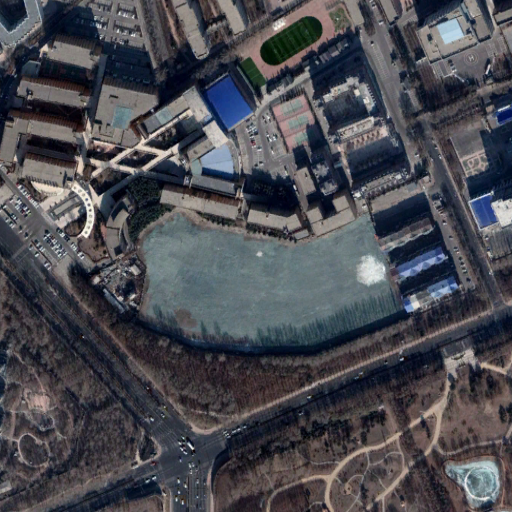cw: (133, 212, 411, 358)
